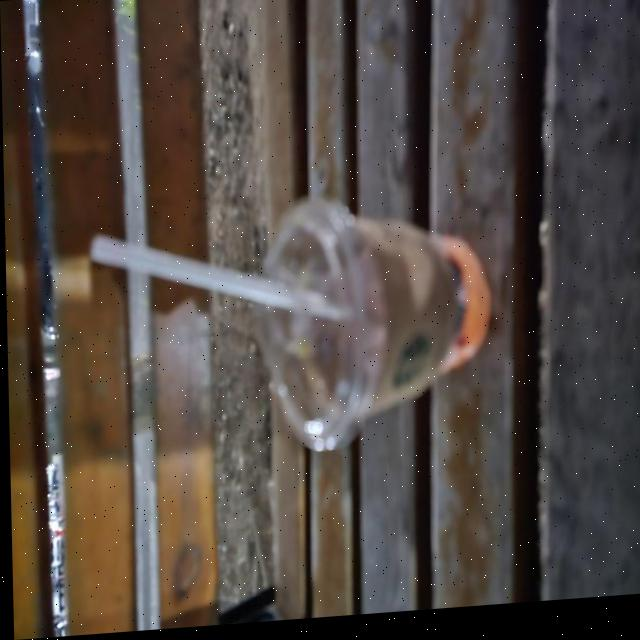cup: (235, 182, 495, 469)
